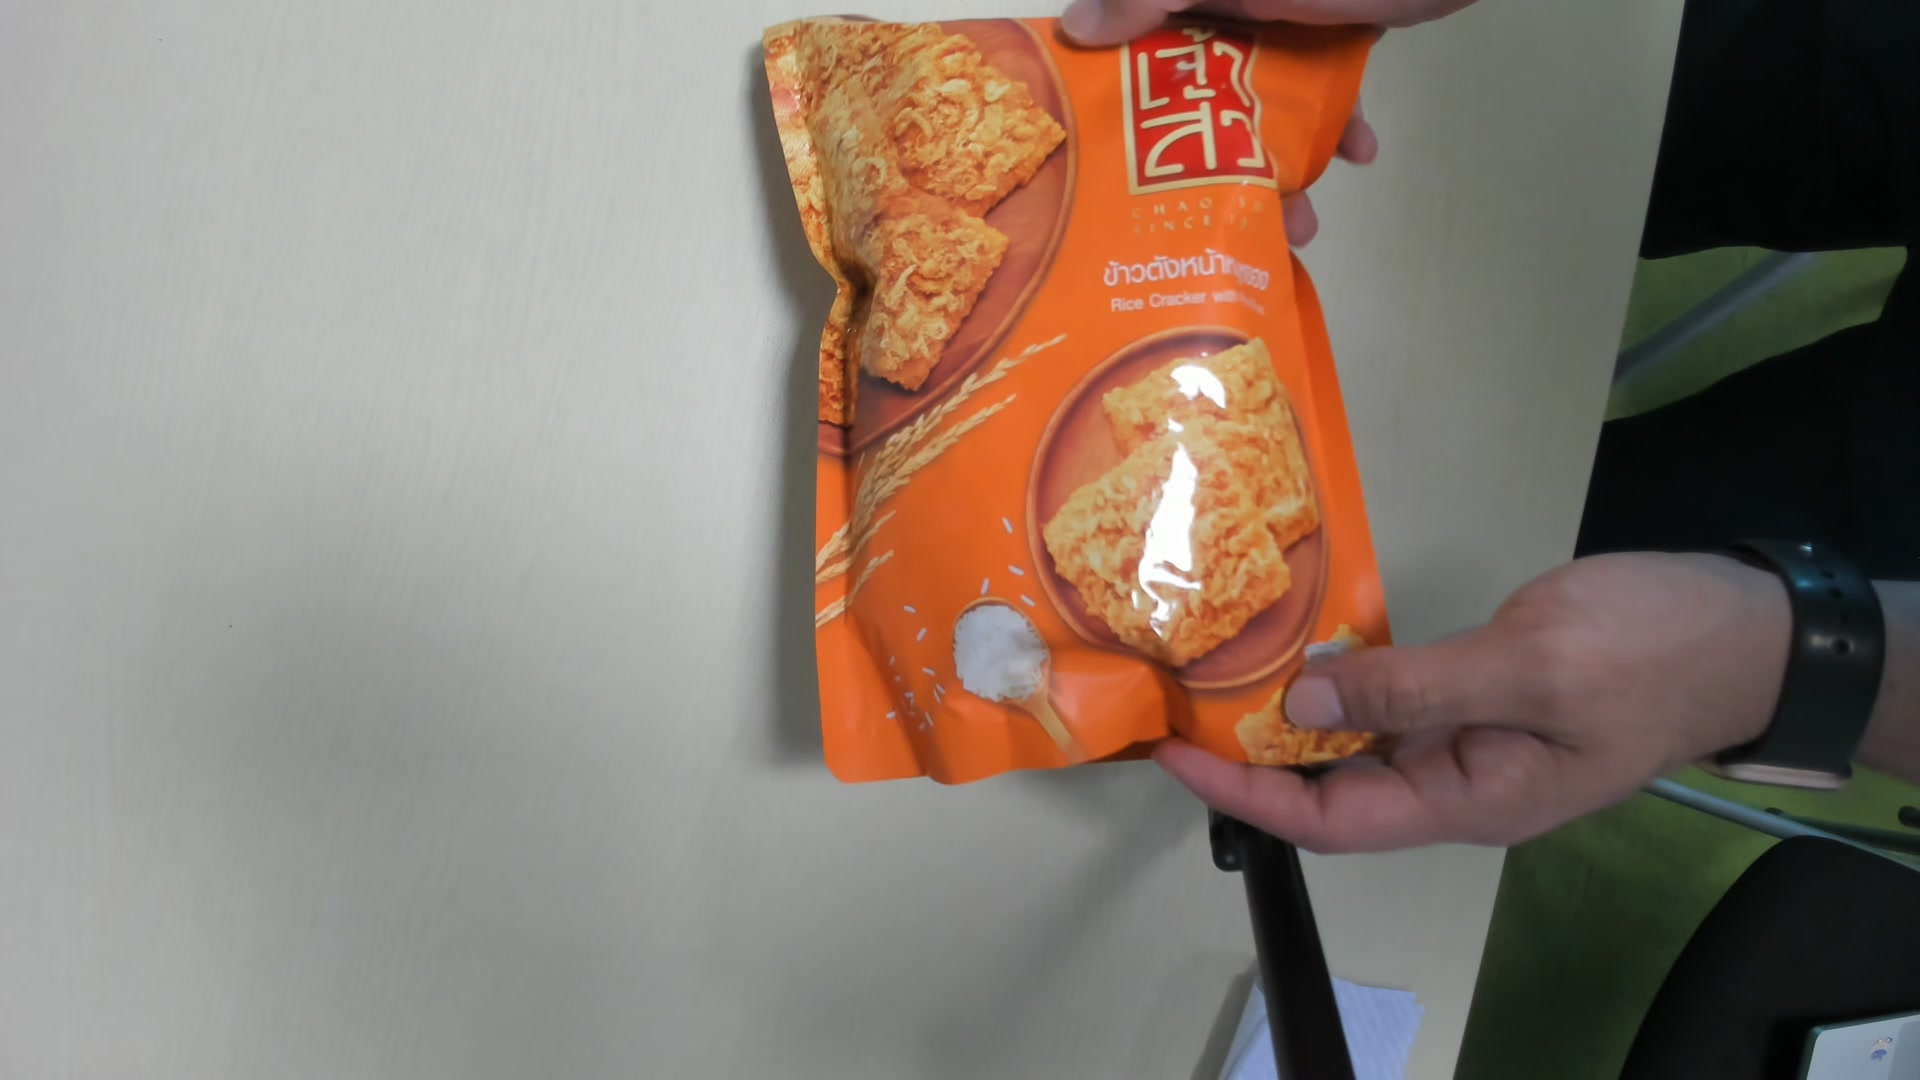PotatoChipsKeropok_0-99g_NonHalal_NonHealthy: (753, 29, 1406, 793)
